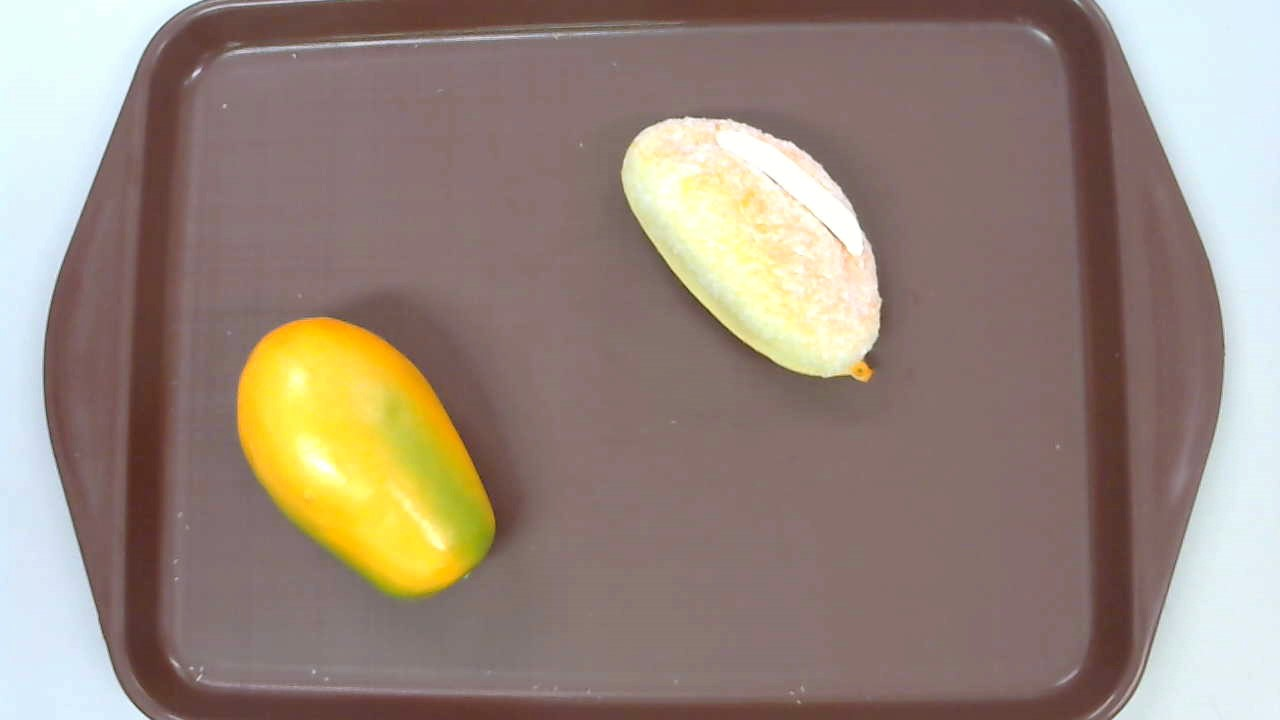coconut: (620, 116, 883, 383)
papya: (235, 316, 495, 599)
